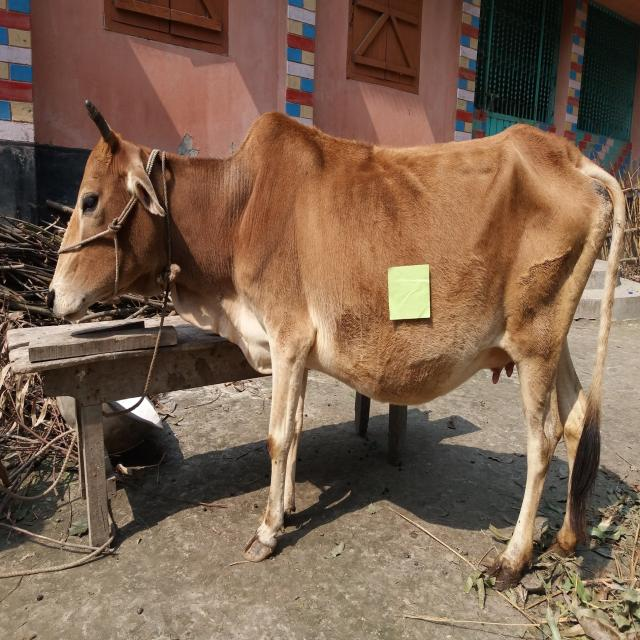badan_sapi: (260, 118, 584, 376)
sapi: (37, 87, 636, 590)
